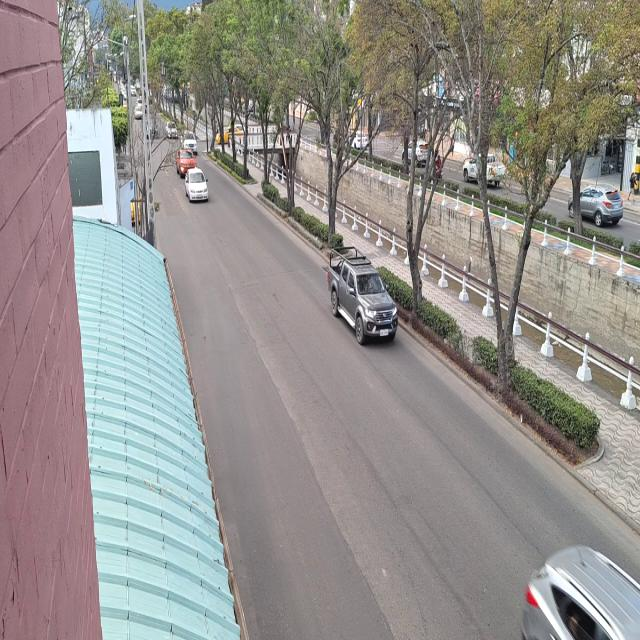CMT: (327, 250, 398, 346), (464, 154, 506, 188)
SED: (186, 169, 209, 201)
SUV: (580, 184, 622, 226)
